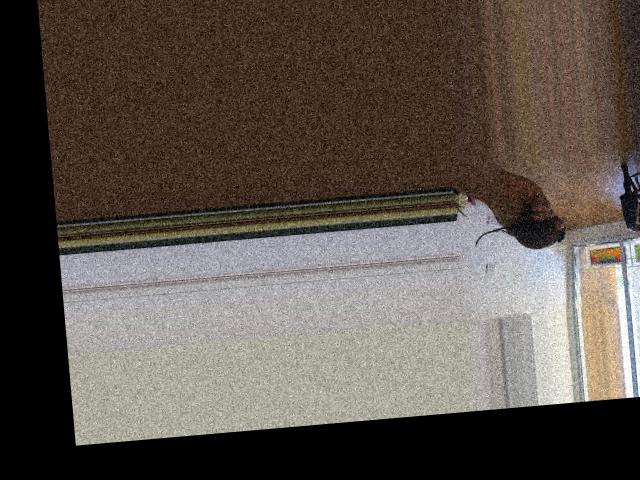beet: (474, 215, 568, 253)
